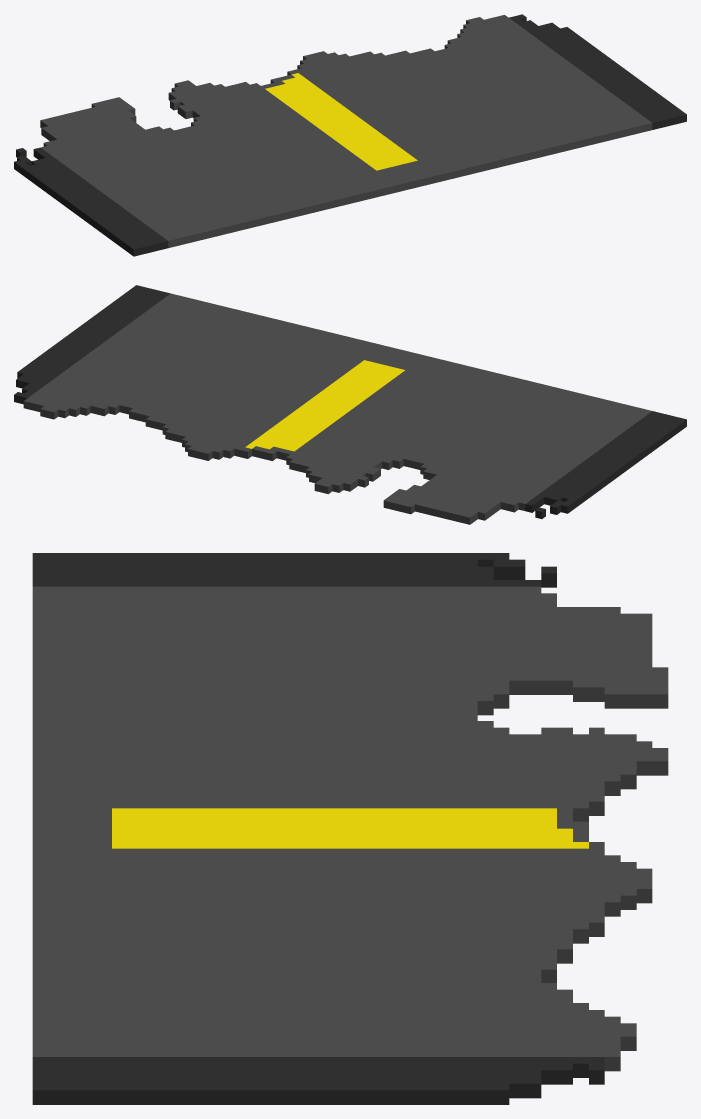
File: road_part1.obj
3 renders of one model, top to bottom at view 1: azimuth 30°, elevation 25°; view 2: azimuth 150°, elevation 25°; view 3: azimuth 270°, elevation 25°, orthographic. The views are drawn at different scales.
Bounding box in the file's own units: 8 × 0.1 × 4.
Materials: 1 (1 with a texture image).
